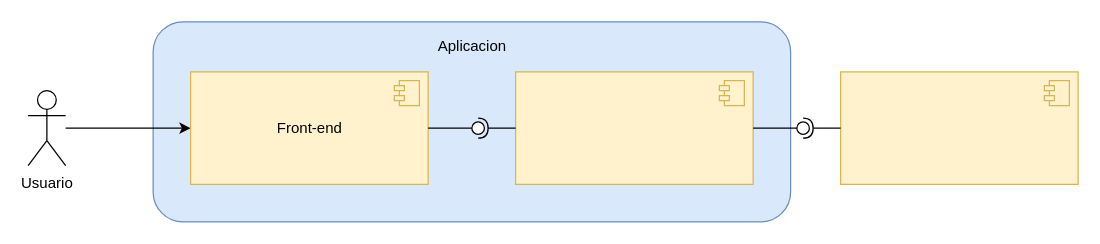
The diagram is 1100 pixels wide and 244 high, and some of its shapes have lost their labels. Each missing label, with the centre of its shape:
"Back-end" goes at (633,127).
"MELI API" goes at (958,127).
